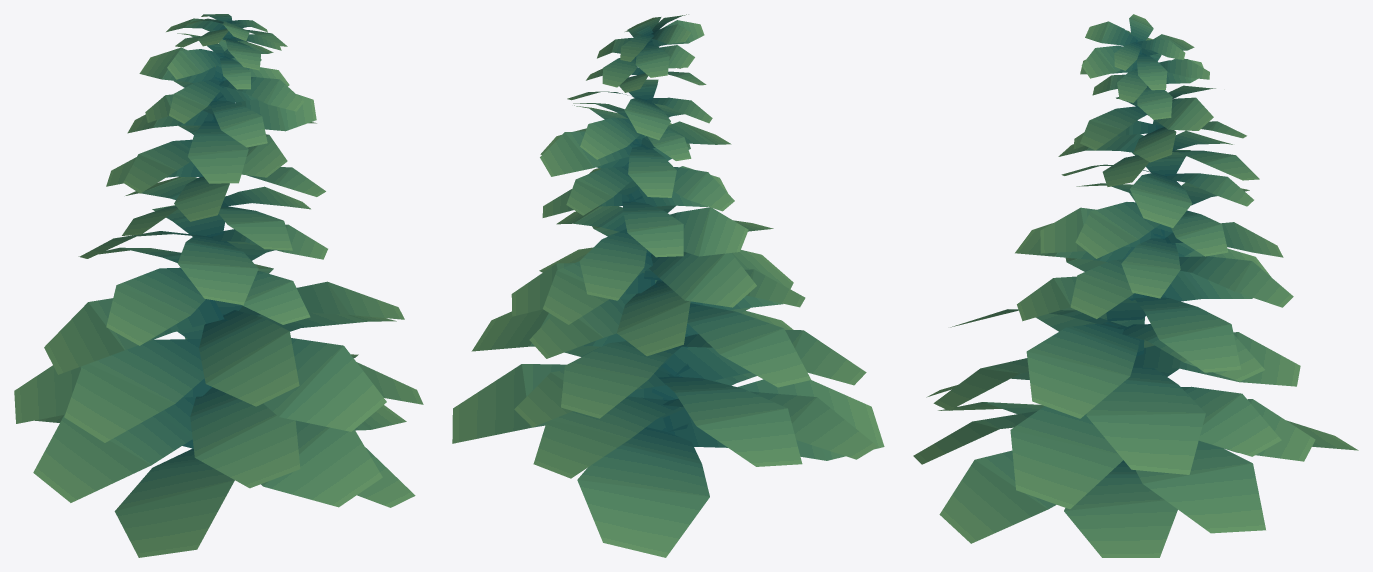
The model's file is Leaves3.glb.
3 renders of one model, left to right at view 1: azimuth 30°, elevation 25°; view 2: azimuth 150°, elevation 25°; view 3: azimuth 270°, elevation 25°, orthographic. The views are drawn at different scales.
Visible parts, largest first — view 1: Plane.009, Plane.013, Plane.003, Plane.006, Plane.018, Plane.010, Plane.014, Plane.023, Plane.017, Plane.027, Plane.005, Plane.041 (+28 smaller); view 2: Plane.002, Plane.005, Plane.012, Plane.017, Plane.008, Plane.015, Plane.003, Plane.026, Plane.022, Plane.013, Plane.029, Plane.016 (+26 smaller); view 3: Plane.011, Plane.007, Plane.019, Plane.015, Plane, Plane.004, Plane.021, Plane.001, Plane.025, Plane.035, Plane.008, Plane.028 (+33 smaller).
Part boxes in pixels (left/top/right/bottom): Plane.009: left=64, top=339, right=204, bottom=442; Plane.013: left=33, top=397, right=195, bottom=502; Plane.003: left=114, top=448, right=234, bottom=557; Plane.006: left=190, top=387, right=300, bottom=488; Plane.018: left=199, top=310, right=299, bottom=406; Plane.010: left=263, top=338, right=386, bottom=431; Plane.014: left=261, top=420, right=382, bottom=507; Plane.023: left=106, top=267, right=205, bottom=345; Plane.017: left=44, top=298, right=224, bottom=374; Plane.027: left=177, top=234, right=258, bottom=305; Plane.005: left=14, top=365, right=211, bottom=423; Plane.041: left=188, top=121, right=248, bottom=183; Plane.002: left=577, top=427, right=709, bottom=557; Plane.005: left=658, top=376, right=802, bottom=466; Plane.012: left=533, top=396, right=679, bottom=478; Plane.017: left=687, top=303, right=810, bottom=387; Plane.008: left=561, top=341, right=681, bottom=418; Plane.015: left=452, top=364, right=668, bottom=443; Plane.003: left=663, top=379, right=884, bottom=460; Plane.026: left=649, top=252, right=756, bottom=307; Plane.022: left=617, top=281, right=690, bottom=356; Plane.013: left=663, top=391, right=877, bottom=459; Plane.029: left=579, top=229, right=646, bottom=300; Plane.016: left=529, top=298, right=629, bottom=358; Plane.011: left=1086, top=366, right=1205, bottom=474; Plane.007: left=1010, top=406, right=1122, bottom=509; Plane.019: left=1026, top=322, right=1140, bottom=418; Plane.015: left=1135, top=441, right=1265, bottom=533; Plane: left=1064, top=460, right=1177, bottom=557; Plane.004: left=939, top=450, right=1056, bottom=543; Plane.021: left=1134, top=296, right=1241, bottom=372; Plane.001: left=1181, top=386, right=1281, bottom=456; Plane.025: left=1179, top=256, right=1293, bottom=307; Plane.035: left=1075, top=202, right=1160, bottom=258; Plane.008: left=1133, top=332, right=1300, bottom=386; Plane.028: left=1121, top=238, right=1180, bottom=298.
Size of the model in its own units: 9.15 by 10.69 by 9.36.
1 material, 1 textured.
